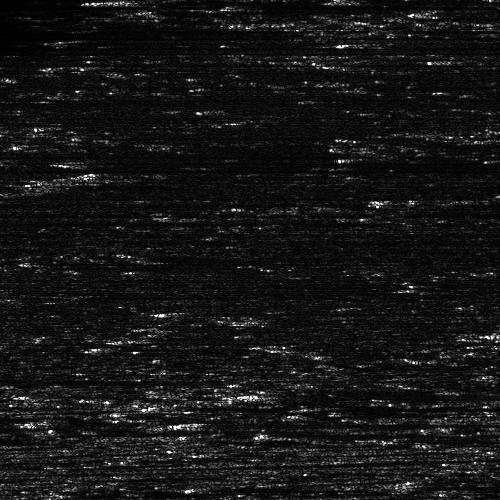object: (445, 324, 500, 337), (319, 34, 350, 51), (140, 308, 193, 315), (65, 158, 96, 165), (168, 421, 209, 426), (108, 0, 139, 5)
shadow: (188, 421, 500, 426), (335, 34, 417, 51), (0, 374, 106, 385), (81, 158, 193, 165), (167, 308, 262, 315), (124, 0, 200, 5)
